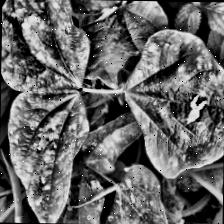Bean Rust: (129, 35, 224, 174), (9, 96, 92, 224), (0, 0, 92, 91), (100, 166, 175, 224), (34, 0, 130, 26)
